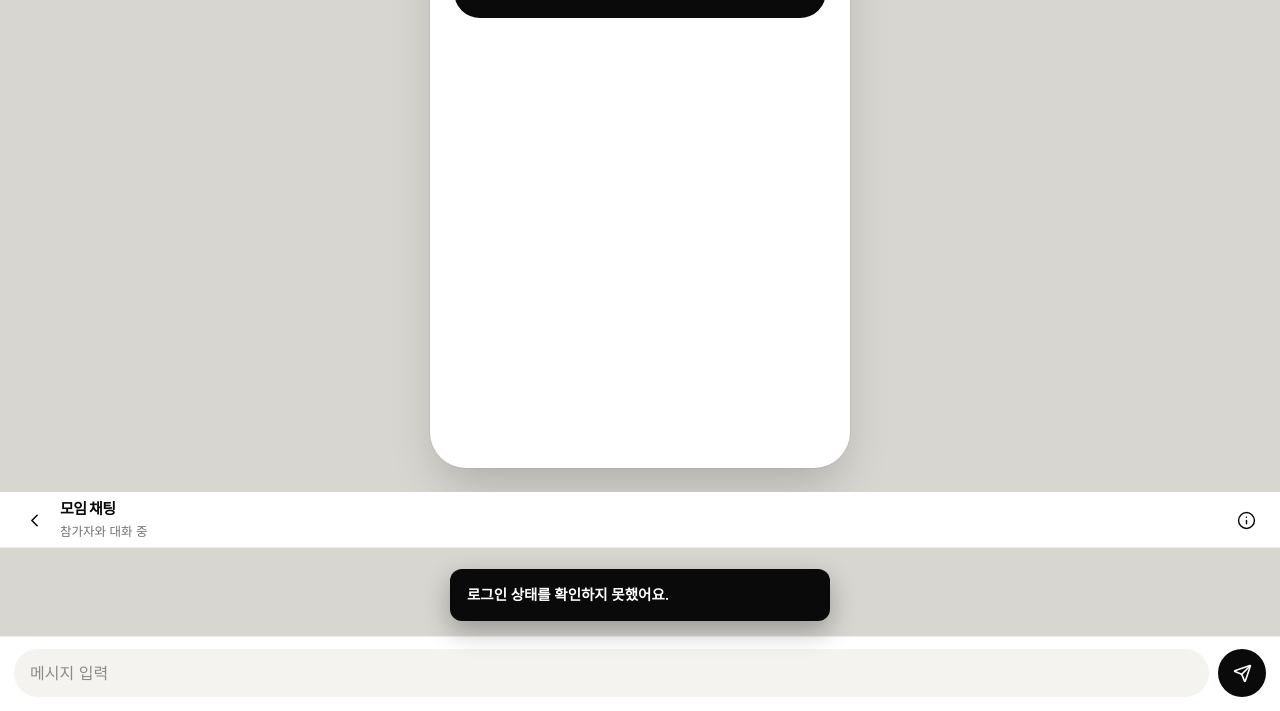
Scenario: #431 CHAT-03 실시간 수신·재연결 › HTTP 저장 응답과 같은 WebSocket 이벤트는 메시지 하나로 합친다
(page scrolled)
Type "중복 없는 메시지" into the text box labelled "메시지".
click(612, 673); type("중복 없는 메시지")  # box [14,649,1209,697]
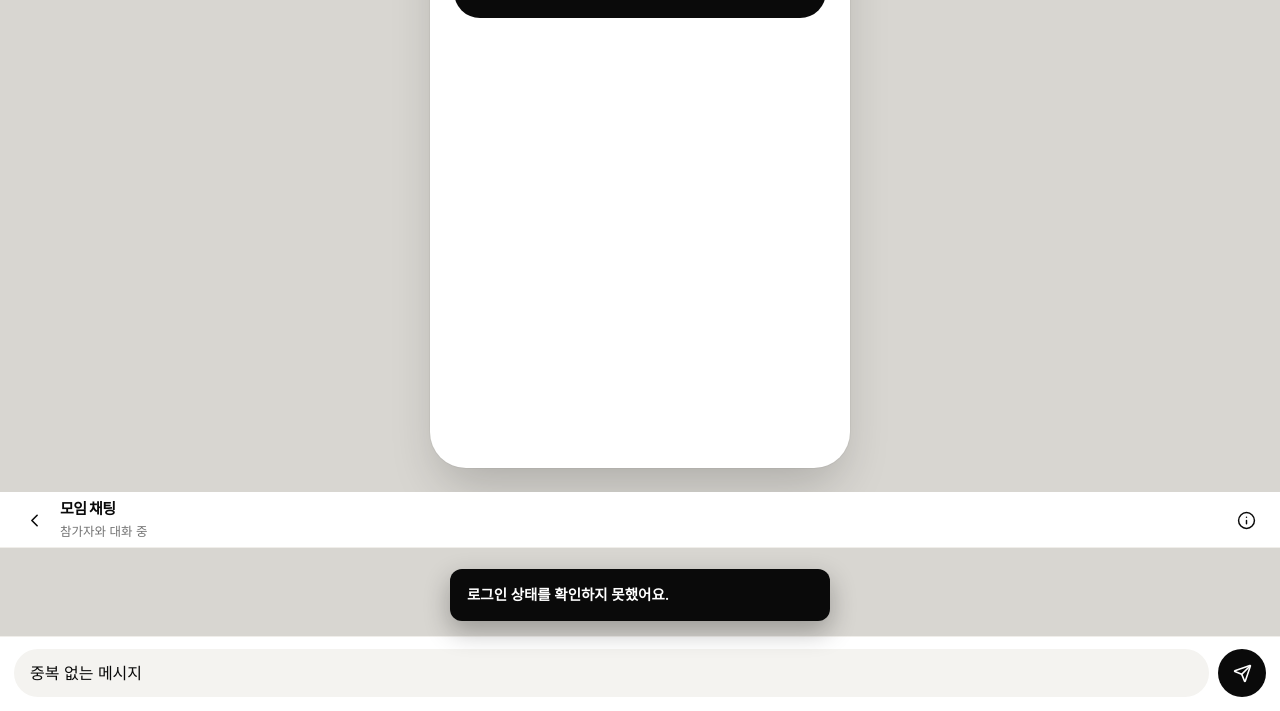
Click the button named "전송".
click(1242, 673)  # box [1218,649,1266,697]
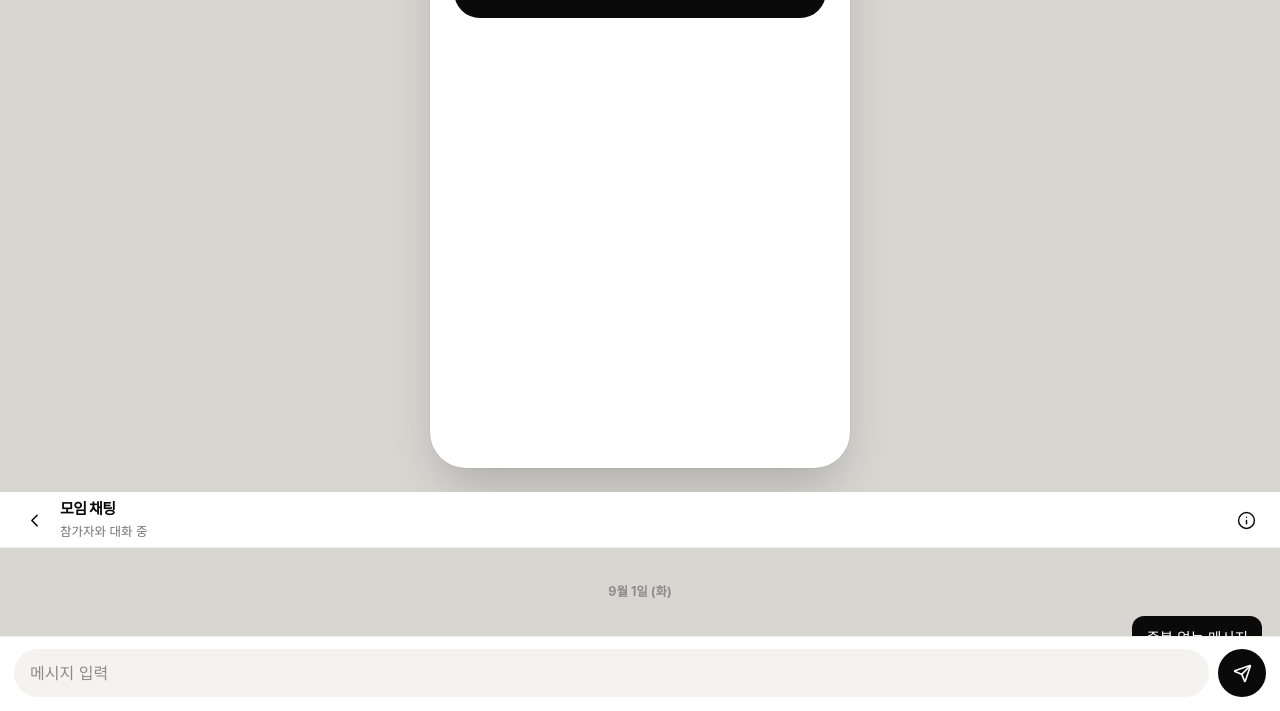
Check: the text box "중복 없는 메시지" is shown, box [14,649,1209,697]
Check: the text "중복 없는 메시지" is shown once, box [1132,616,1262,660]
